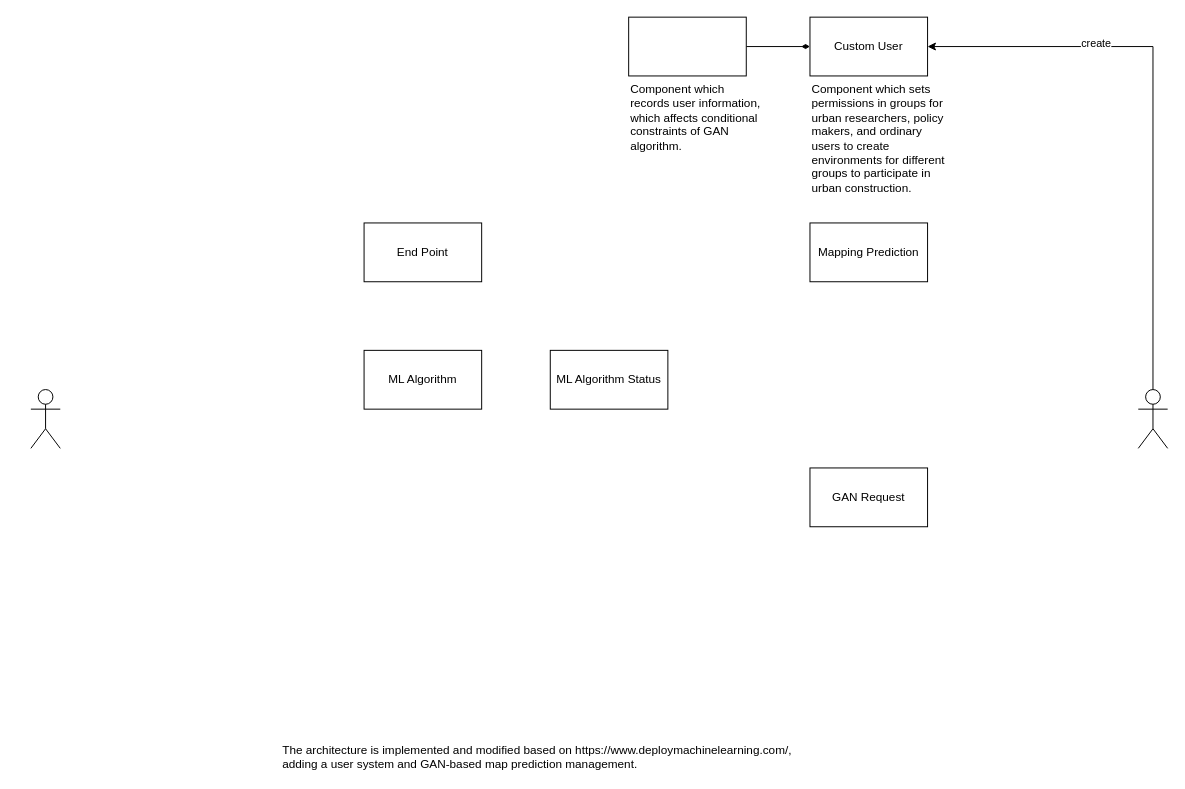
The diagram is 1185 pixels wide and 789 high, and some of its shapes have lost their labels. The shapes that lost their labels are listed below. From the top down, each one's centre as x and y in pixels, then its label:
the point at 687,46: Profile
the point at 45,418: developers
the point at 1152,418: users
